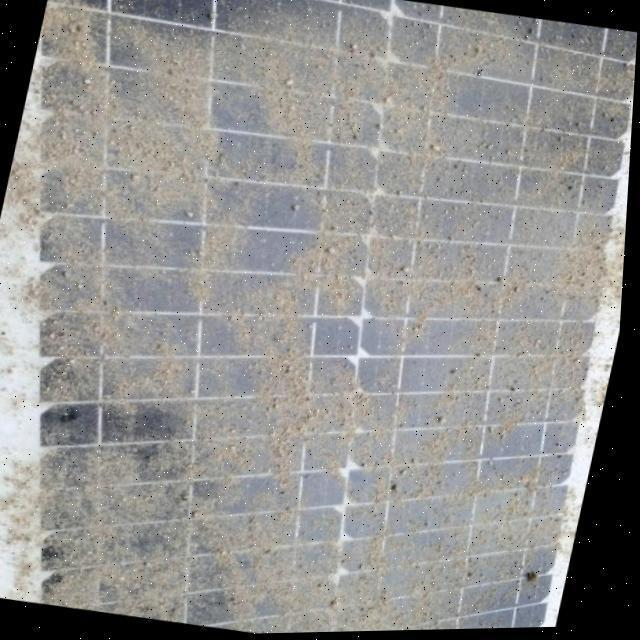Anomaly Solar Panel: (0, 0, 640, 640)
Surface Contaminant: (7, 0, 638, 635)
